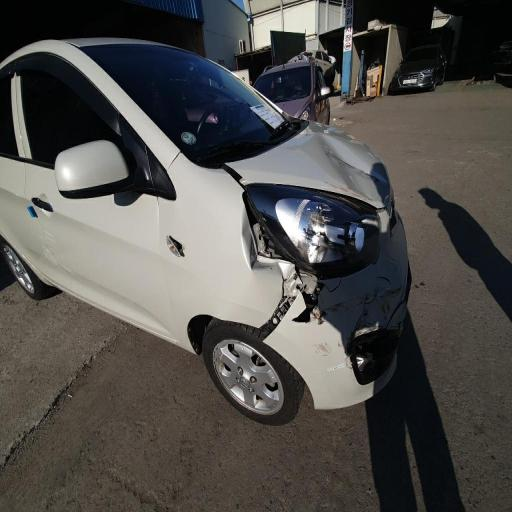broken: (192, 142, 362, 383), (159, 216, 204, 286)
dent: (290, 111, 396, 227)
